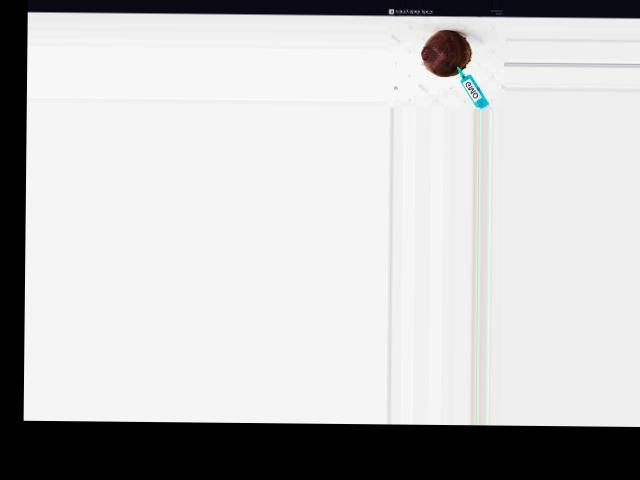beet: (421, 29, 471, 77)
